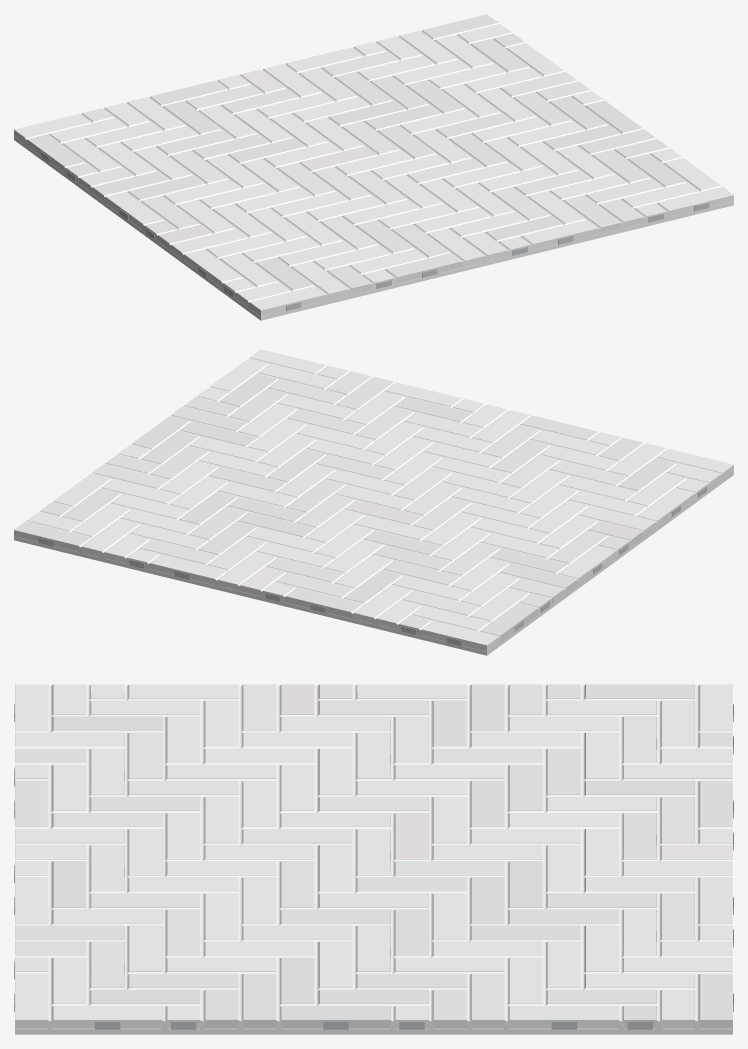
Rendered from board_5.glb.
3 views of the same model, one above another, from view 1: azimuth 30°, elevation 25°; view 2: azimuth 150°, elevation 25°; view 3: azimuth 270°, elevation 25° (orthographic). The views are drawn at different scales.
Visible parts, largest first — view 1: B01, MORTAR, B08, backing, B09, CLIP_R50; view 2: B01, MORTAR, B08, backing, B09, CLIP_R50; view 3: B01, MORTAR, B08, B09, backing, CLIP_R50.
Part boxes in pixels (x1=…): B01: x1=14, y1=14, x2=733, y2=316; MORTAR: x1=25, y1=23, x2=721, y2=308; B08: x1=79, y1=24, x2=668, y2=306; backing: x1=14, y1=136, x2=733, y2=320; B09: x1=66, y1=33, x2=681, y2=296; CLIP_R50: x1=41, y1=151, x2=709, y2=310; B01: x1=14, y1=349, x2=733, y2=651; MORTAR: x1=26, y1=358, x2=722, y2=643; B08: x1=27, y1=371, x2=720, y2=629; backing: x1=14, y1=471, x2=733, y2=655; B09: x1=40, y1=366, x2=707, y2=634; CLIP_R50: x1=38, y1=486, x2=706, y2=645; B01: x1=15, y1=684, x2=732, y2=1028; MORTAR: x1=15, y1=685, x2=732, y2=1029; B08: x1=15, y1=684, x2=732, y2=1028; B09: x1=15, y1=684, x2=732, y2=1028; backing: x1=15, y1=694, x2=732, y2=1034; CLIP_R50: x1=14, y1=704, x2=733, y2=1029.
Bounding box in the file's own units: 1.57 × 0.033 × 1.42.
6 materials, 1 textured.
